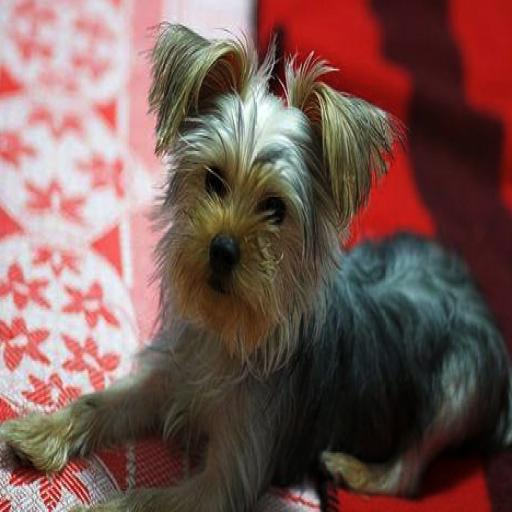dog_face: (150, 27, 386, 324)
